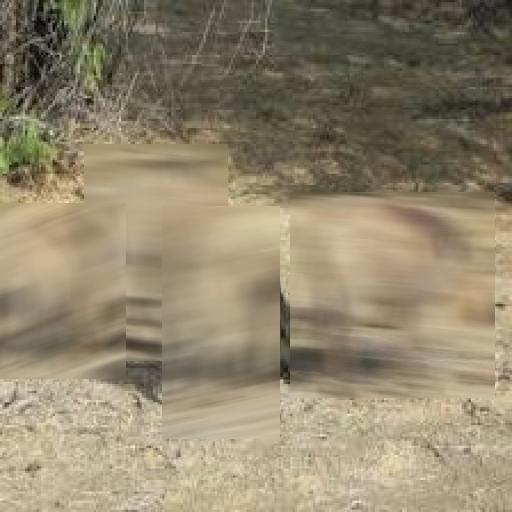Pig: (290, 192, 495, 398), (84, 144, 228, 361), (162, 206, 280, 439), (0, 204, 126, 380)
